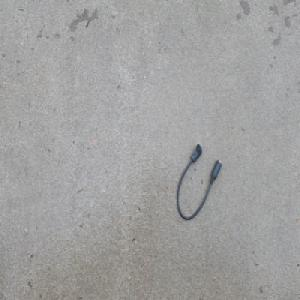Wire: (175, 142, 222, 222)
